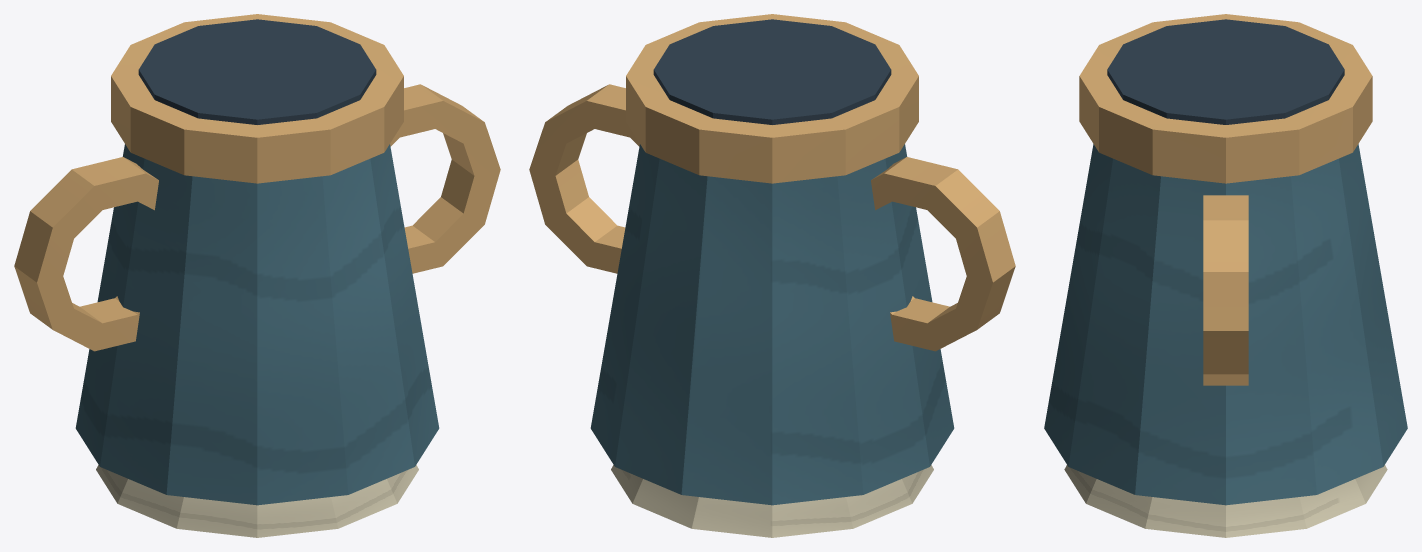
File: vessel.glb
3 views of the same model, side by side, from view 1: azimuth 30°, elevation 25°; view 2: azimuth 150°, elevation 25°; view 3: azimuth 270°, elevation 25° (orthographic).
Parts seen in each view (by area): view 1: vessel_solid; view 2: vessel_solid; view 3: vessel_solid.
Part boxes in pixels (x1,y1,x2,y2): vessel_solid: (14,14,500,537); vessel_solid: (529,14,1015,537); vessel_solid: (1044,14,1407,537).
Size of the model in its own units: 1.06 by 0.874 by 0.72.
Materials: 4 (2 with a texture image).
